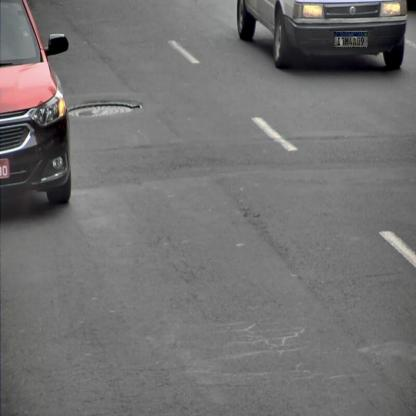PlacaM: (334, 32, 368, 48)
